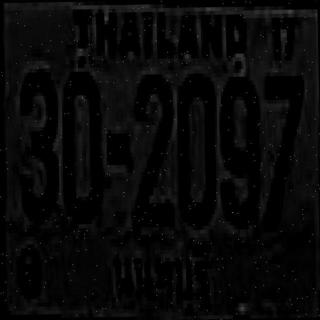N00: (60, 67, 102, 220), (175, 73, 215, 226)
N02: (131, 72, 174, 225)
N03: (17, 68, 58, 221)
N07: (261, 72, 303, 225)
N09: (218, 72, 258, 226)
P37: (106, 232, 214, 312)
